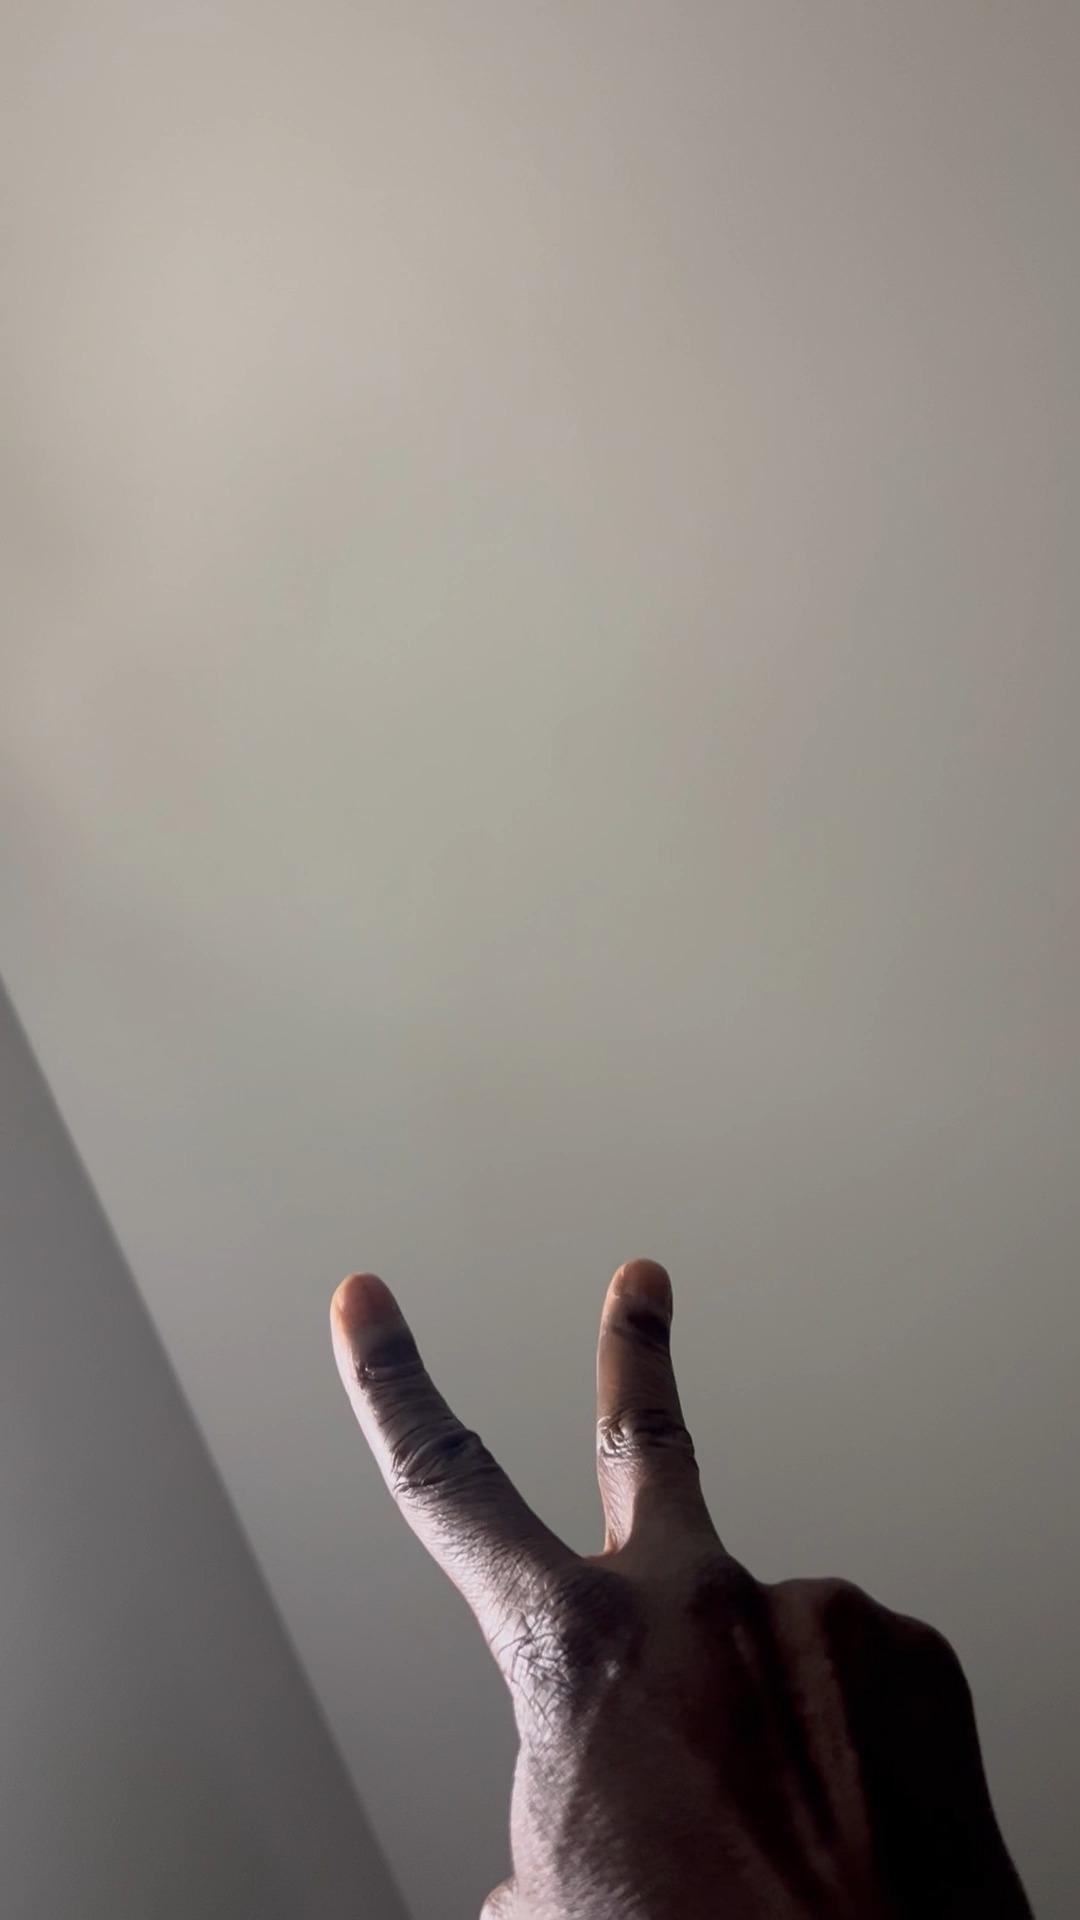Scissors: (337, 1253, 1031, 1920)
